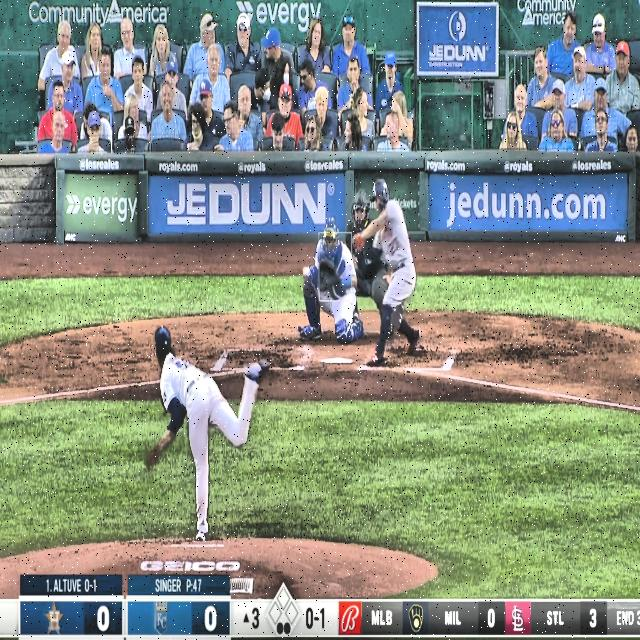baseball: (302, 266, 308, 276)
